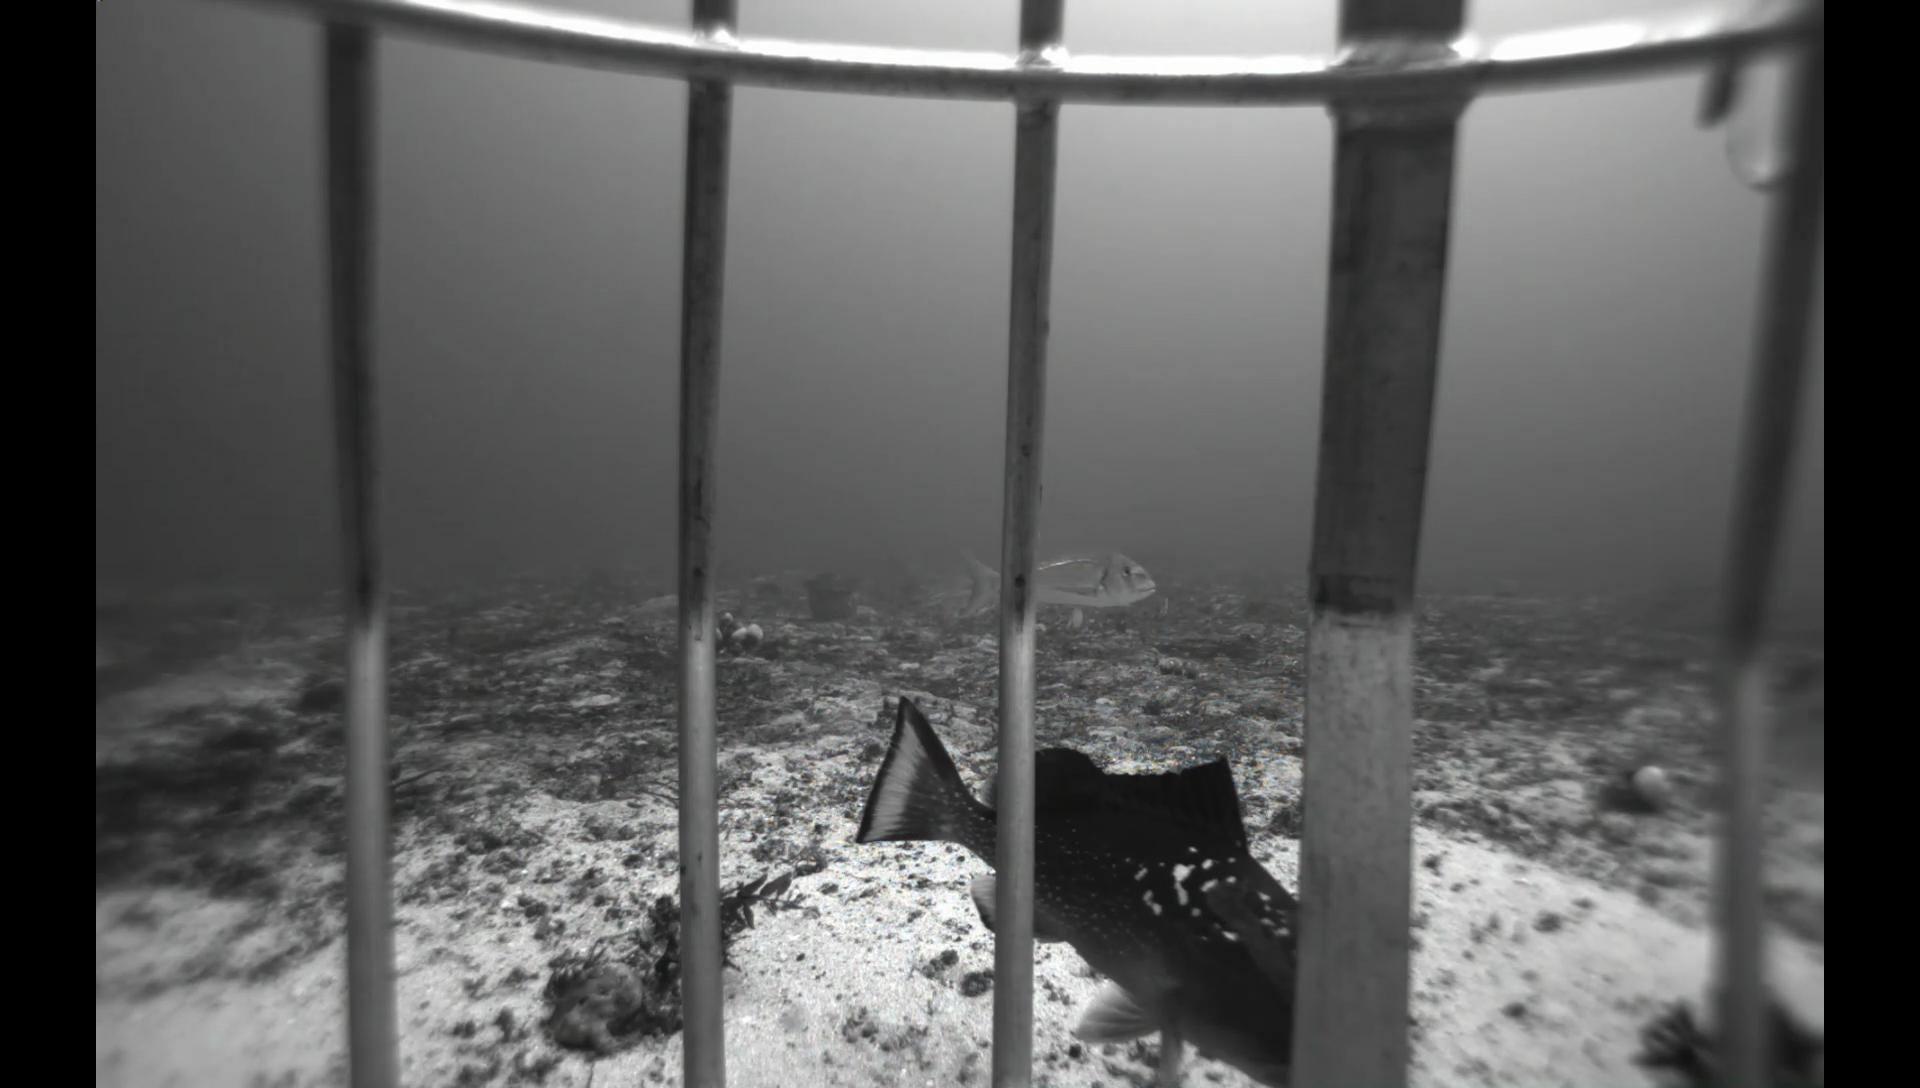CALAMUSNODOSUS-170210608: (1760, 671, 1822, 804)
CHAETODONOCELLATUS-170260307: (1062, 607, 1093, 632), (1153, 593, 1172, 620)
EPINEPHELUSMORIO-170021211: (836, 682, 1303, 1088)
HALICHOERESBIVITTATUS-170281202: (284, 651, 313, 673)
PAGRUSPAGRUS-170212302: (942, 537, 1160, 620)
PRISTIGENYSALTA-170050401: (291, 675, 345, 713)
